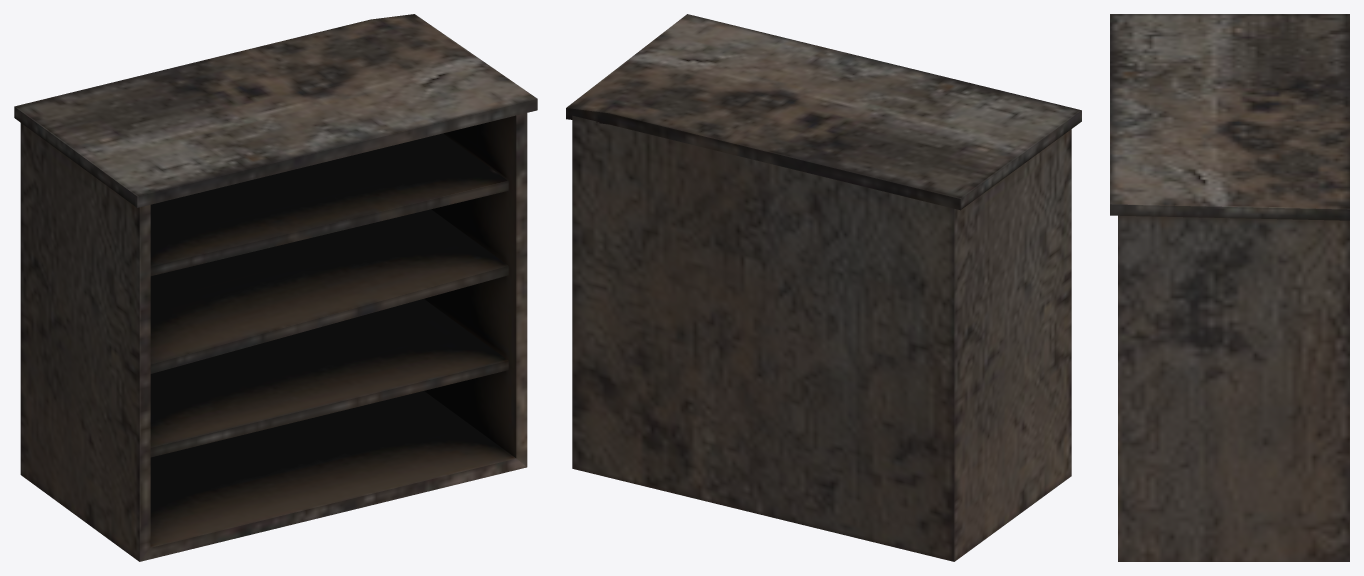
The model's file is OpenStorage_02.FBX.
3 views of the same model, side by side, from view 1: azimuth 30°, elevation 25°; view 2: azimuth 150°, elevation 25°; view 3: azimuth 270°, elevation 25° (orthographic). The views are drawn at different scales.
Parts seen in each view (by area): view 1: OpenStorage_02; view 2: OpenStorage_02; view 3: OpenStorage_02.
Part boxes in pixels (<box>): OpenStorage_02: <box>14,14,537,561</box>; OpenStorage_02: <box>566,14,1081,561</box>; OpenStorage_02: <box>1110,14,1349,561</box>.
Size of the model in its own units: 109 by 96.6 by 58.25.
